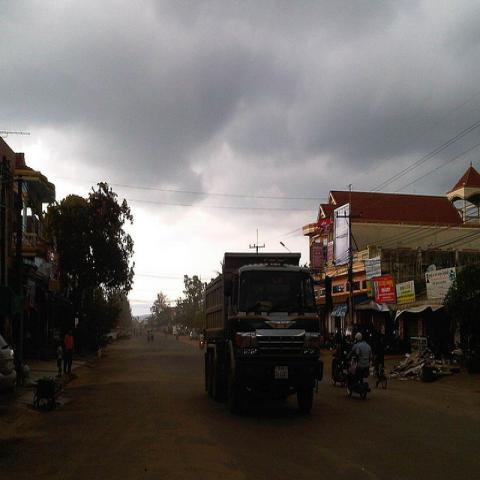car: (0, 334, 17, 390), (105, 328, 117, 344)
motorcycle: (329, 346, 349, 386), (346, 371, 372, 399)
truck: (203, 253, 323, 416)
